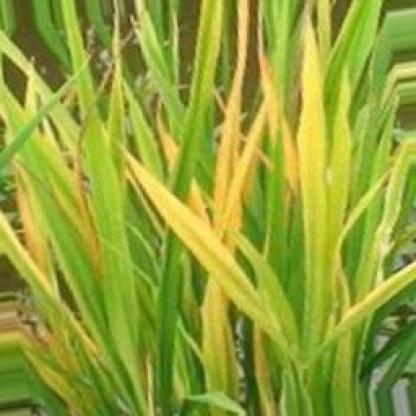Tungro: (115, 149, 266, 319), (198, 3, 257, 390), (289, 8, 344, 323), (3, 151, 76, 325), (330, 263, 416, 341)
